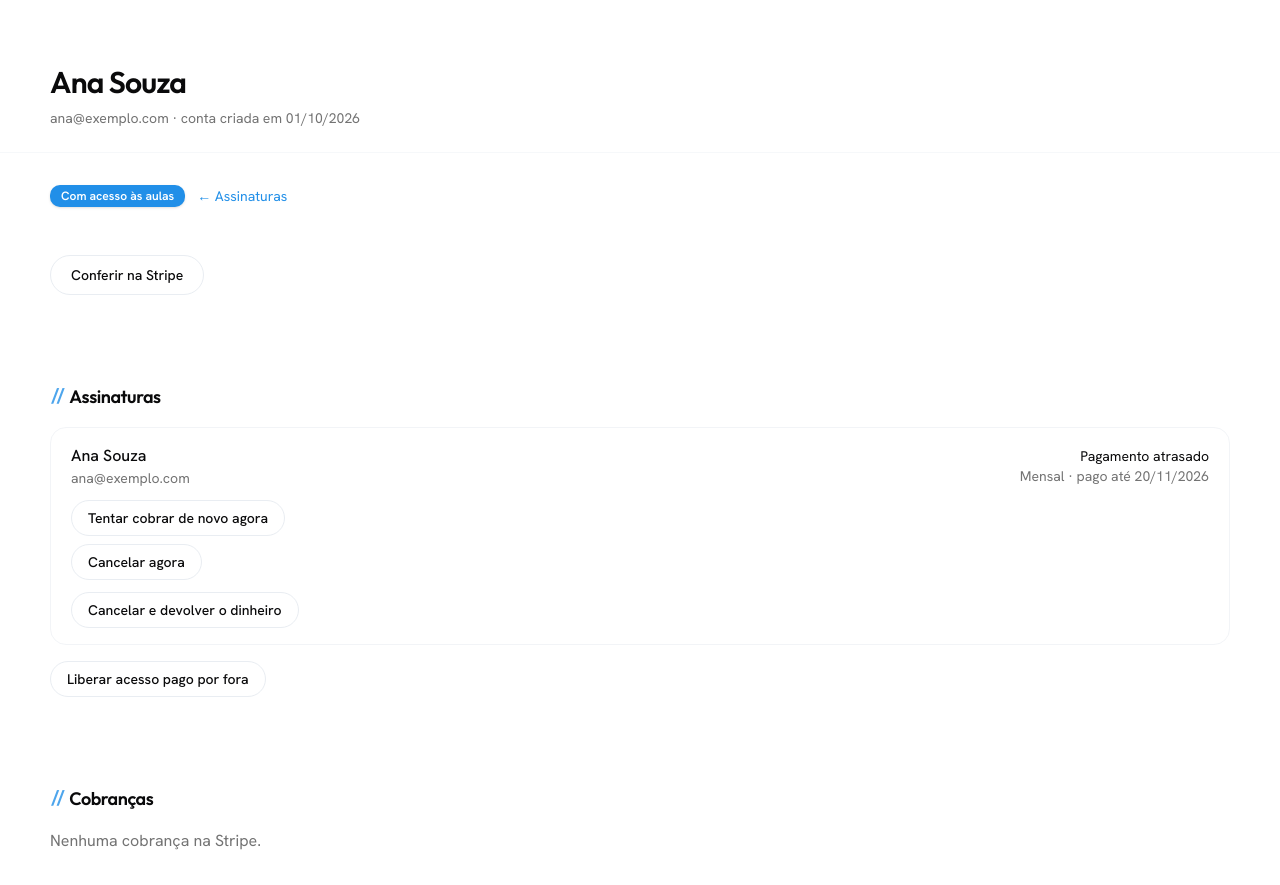
Test case: a ficha — as ações (passo 3a) › atrasada (passo 4b): 'Tentar cobrar de novo agora' pede confirmação com o efeito, cobra e diz o que a Stripe respondeu
The image size is (1280, 885).
Click the button "Tentar cobrar de novo agora" at [178, 518], box [71, 500, 285, 536]
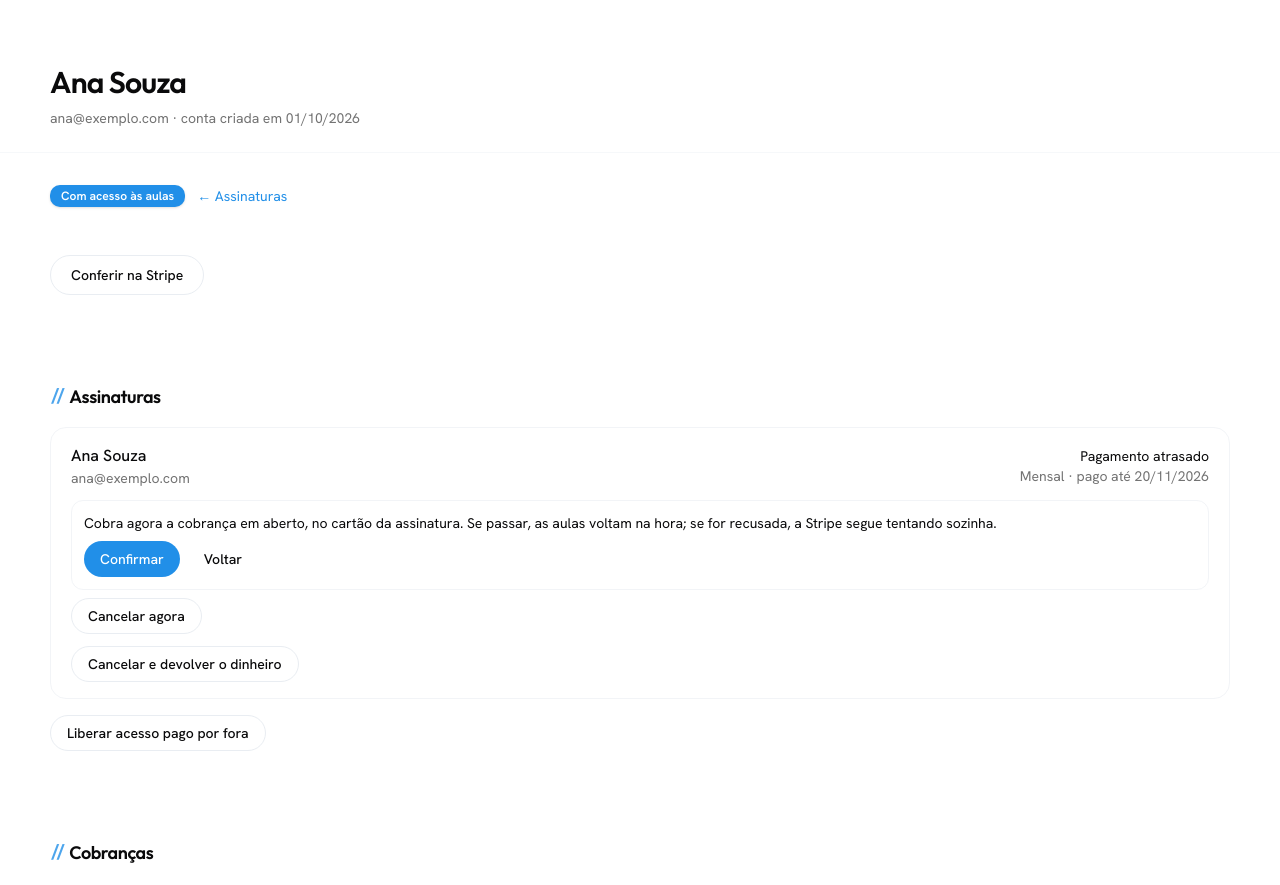
Expected: the text "Cobra agora a cobrança em aberto, no cartão da assinatura. Se passar, as aulas voltam na hora; se for recusada, a Stripe" is shown, [84, 514, 997, 532]
Click the button "Confirmar" at [132, 559], box [84, 541, 180, 577]
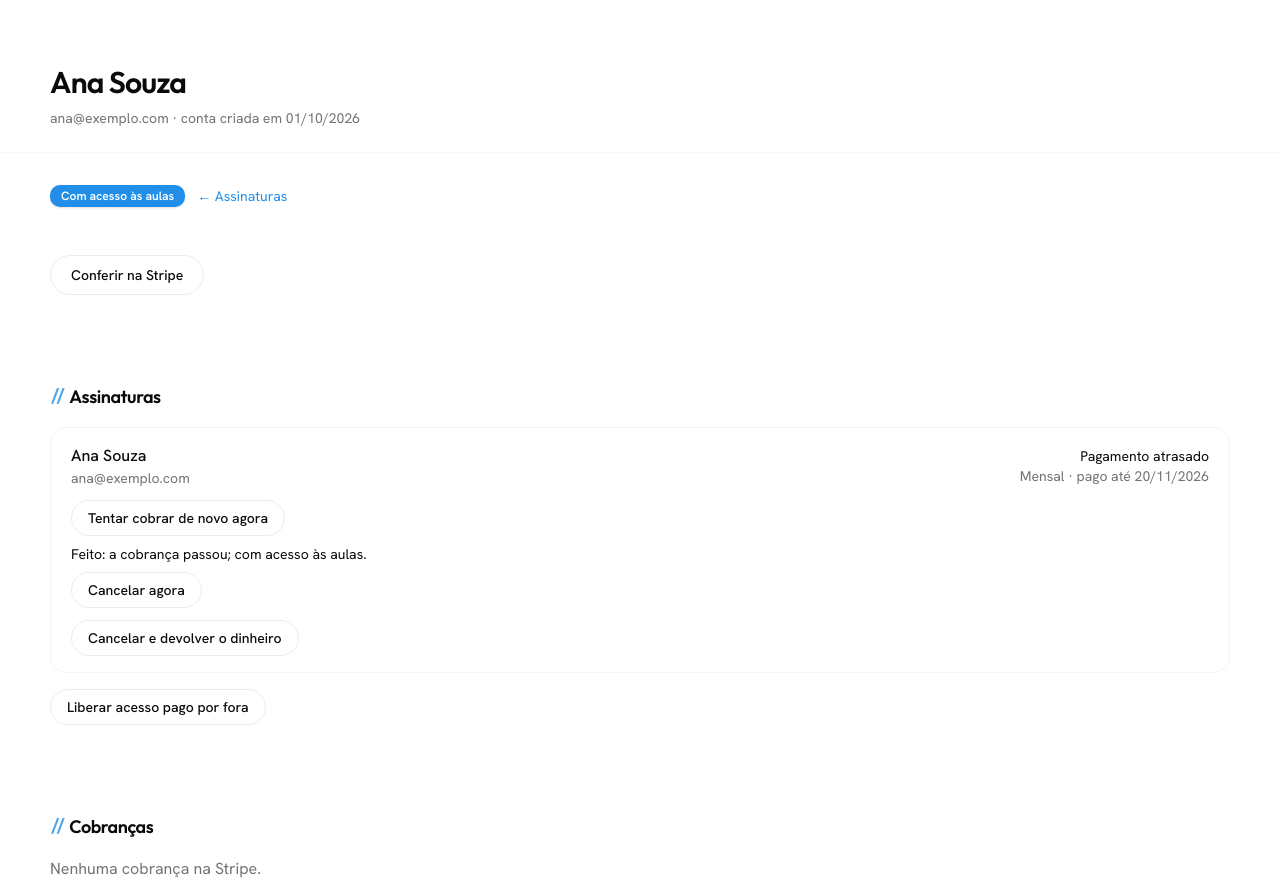
Expected: the text "Feito: a cobrança passou; com acesso às aulas." is shown, [71, 545, 367, 563]
